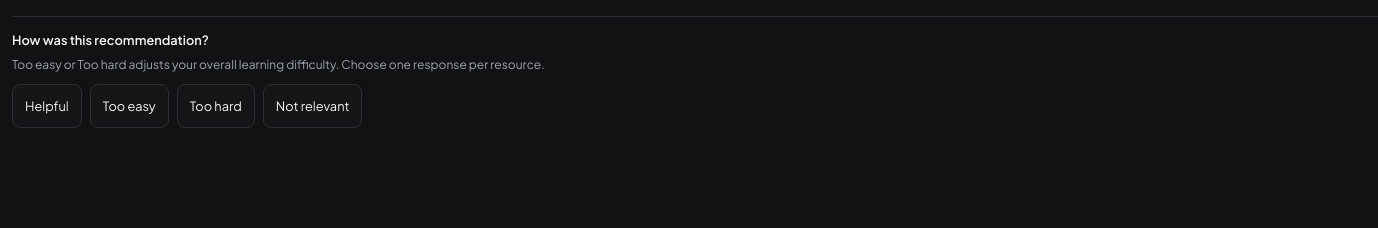
Test case: Feedback readback and safe retry › finds an existing recommendation feedback beyond the first page and does not submit again
The image size is (1378, 228).
Click the button "Helpful".
click(47, 106)  # box [12,84,82,128]
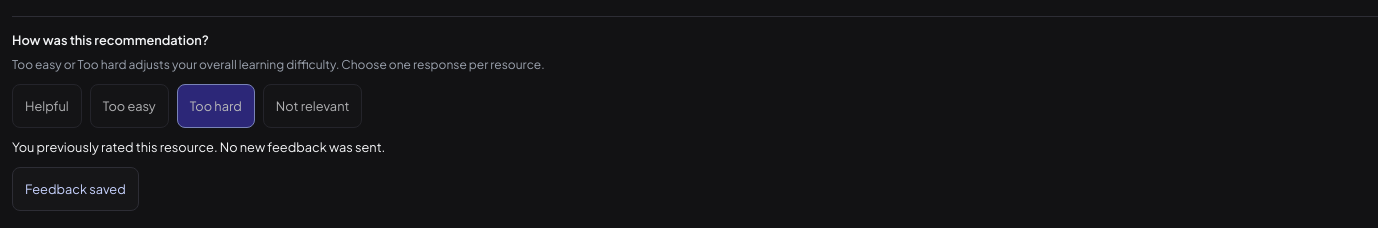
Check: the text "You previously rated this resource. No new feedback was sent." is shown, box [12,139,385,155]
